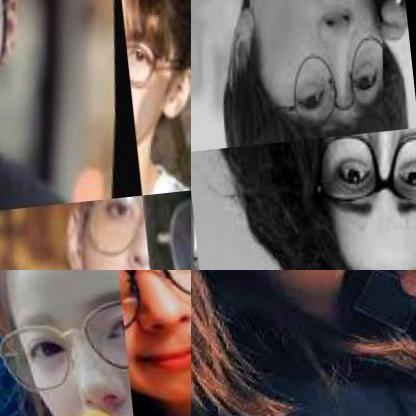Glasses: (0, 271, 131, 415), (111, 270, 190, 356), (121, 0, 190, 95), (69, 195, 149, 269), (0, 0, 24, 80)
glasses: (274, 25, 406, 133), (303, 127, 415, 233)
